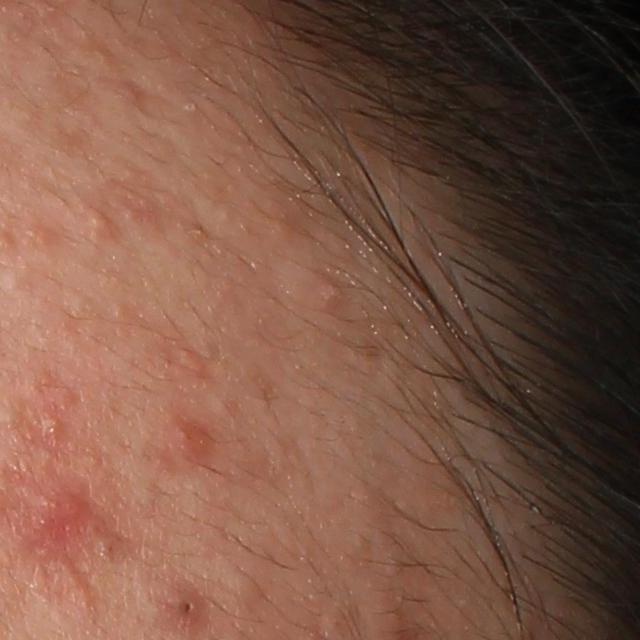papule: (12, 476, 96, 553), (152, 582, 214, 634), (176, 417, 221, 466), (314, 266, 345, 322)
